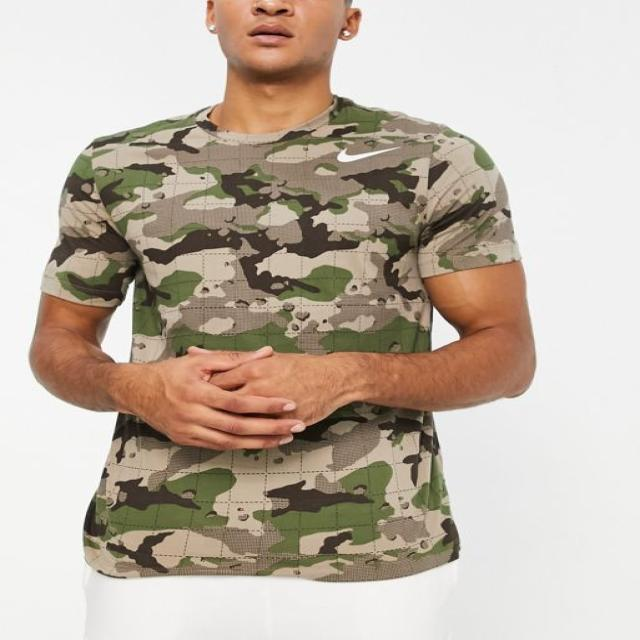tshirt: (42, 99, 519, 581)
